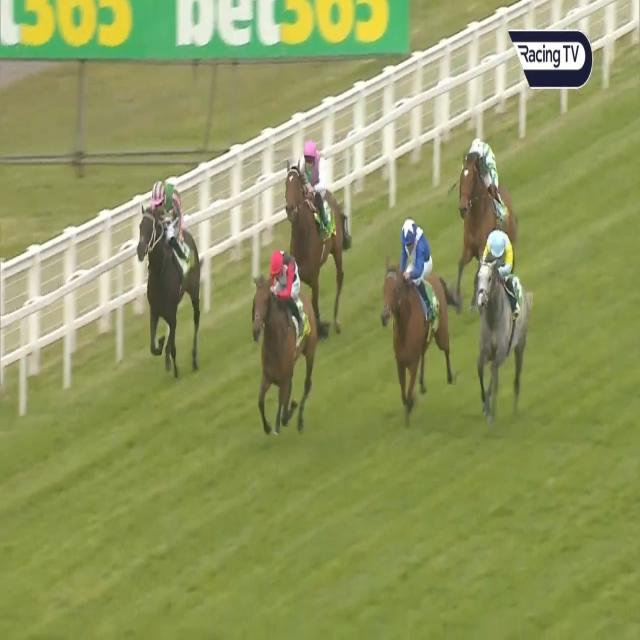horses-racing: (473, 227, 554, 438), (241, 233, 330, 425), (135, 171, 208, 383), (383, 214, 455, 416), (273, 136, 355, 306), (458, 128, 518, 262)
